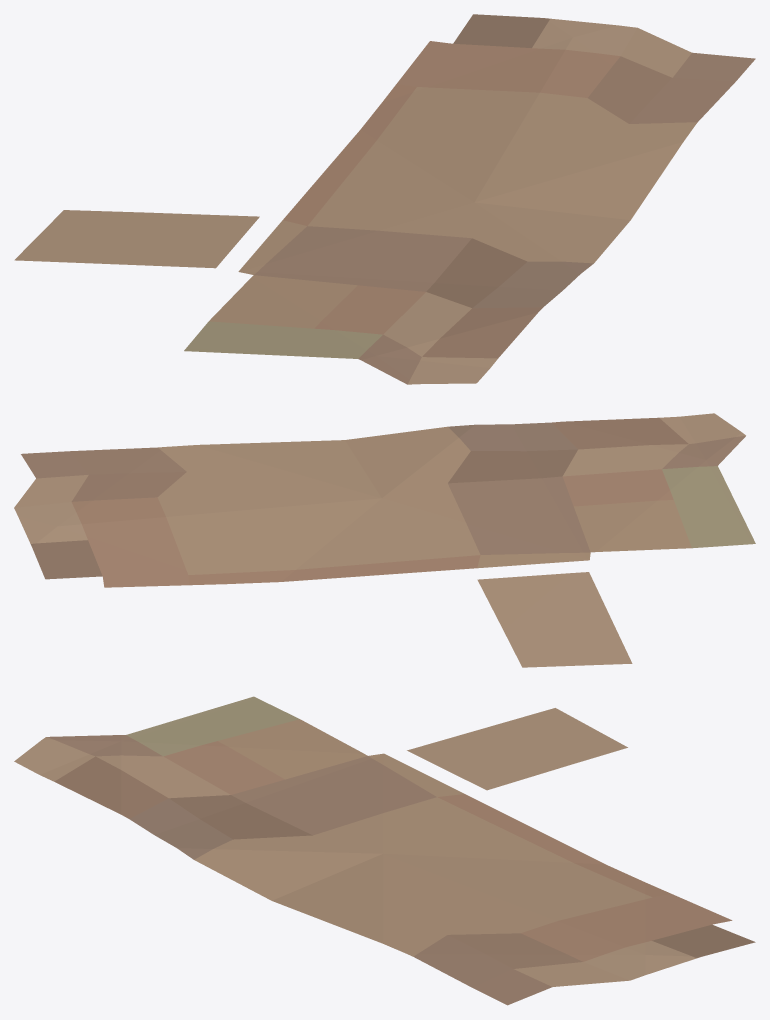
File: farm_9_-3_soil.glb
3 views of the same model, one above another, from view 1: azimuth 30°, elevation 25°; view 2: azimuth 150°, elevation 25°; view 3: azimuth 270°, elevation 25° (orthographic). The views are drawn at different scales.
Parts seen in each view (by area): view 1: geometry_0; view 2: geometry_0; view 3: geometry_0.
Part boxes in pixels (<box>): geometry_0: <box>14,14,755,384</box>; geometry_0: <box>14,413,755,667</box>; geometry_0: <box>14,696,755,1005</box>.
Bounding box in the file's own units: 247 × 14.67 × 227.
